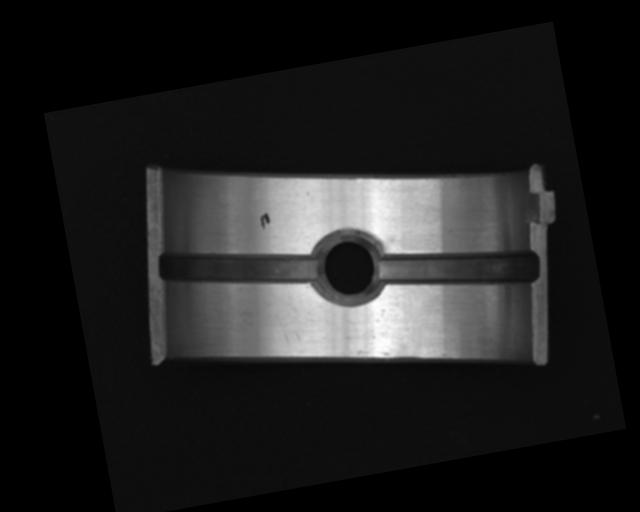blot: (258, 211, 271, 230)
gap: (372, 228, 542, 310), (158, 228, 320, 310)
hole: (309, 229, 385, 309)
